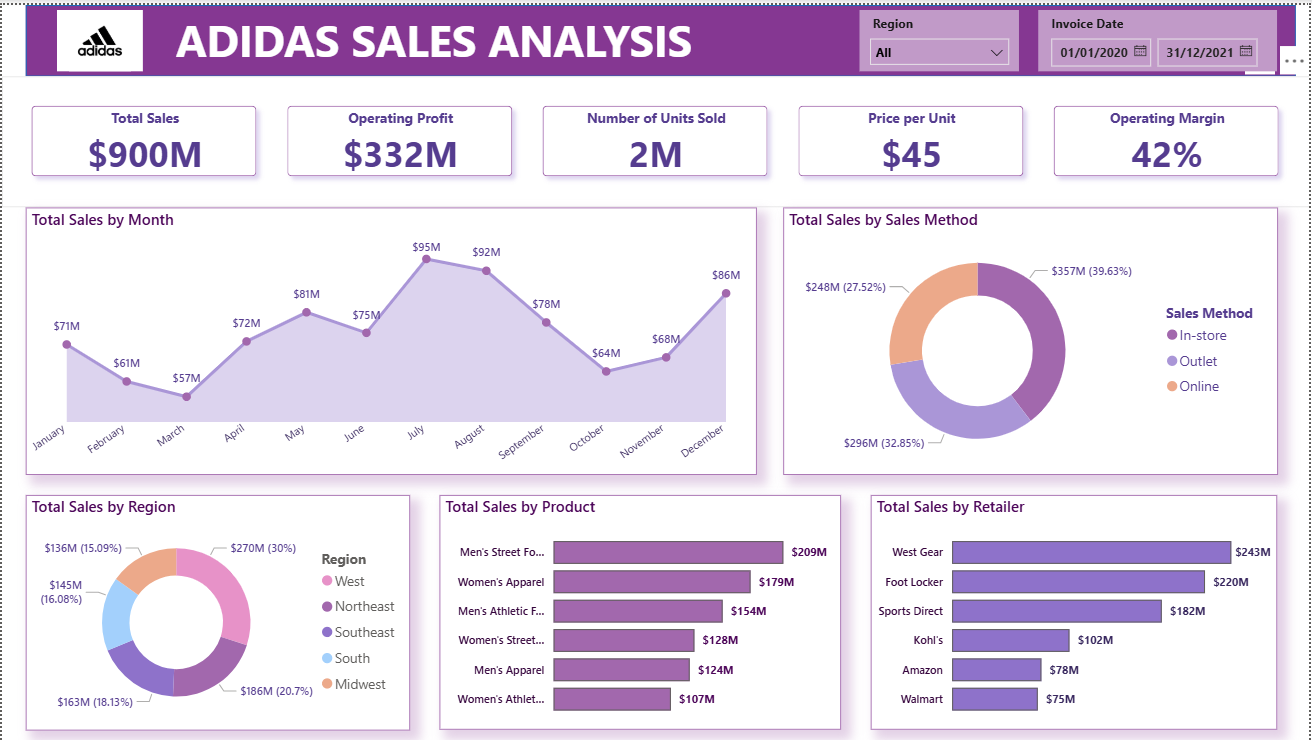

This screenshot's page, from the dashboard's own definition file:
{"tool":"powerbi","page":{"name":"Sales Analysis","canvas":[1280,720],"ordinal":0},"visuals":[{"type":"shape","box":[23.8,0,1242.5,70],"z":0},{"type":"textbox","box":[165,0,527.5,70],"z":1000},{"type":"cardVisual","fields":{"Data":["Sum(Data Sales Adidas.Total Sales)","Sum(Data Sales Adidas.Operating Profit)","Sum(Data Sales Adidas.Units Sold)","Avg(Data Sales Adidas.Price per Unit)","Avg(Data Sales Adidas.Operating Margin)"]},"box":[0,70,1280,127.5],"z":2000},{"type":"areaChart","title":"Total Sales by Month","fields":{"Category":["Data Sales Adidas.Invoice Date.Variation.Date Hierarchy.Month"],"Y":["Sum(Data Sales Adidas.Total Sales)"]},"box":[23.8,197.5,715,261.2],"z":3000},{"type":"donutChart","title":"Total Sales by Region","fields":{"Category":["Data Sales Adidas.Region"],"Y":["Sum(Data Sales Adidas.Total Sales)"]},"box":[23.8,478.8,376.2,230],"z":4000},{"type":"barChart","title":"Total Sales by Product","fields":{"Category":["Data Sales Adidas.Product"],"Y":["Sum(Data Sales Adidas.Total Sales)"]},"box":[428.2,478.8,392.9,229.4],"z":5000},{"type":"barChart","title":"Total Sales by Retailer","fields":{"Y":["Sum(Data Sales Adidas.Total Sales)"],"Category":["Data Sales Adidas.Retailer"]},"box":[849.4,478.8,397.6,229.4],"z":6000},{"type":"slicer","fields":{"Values":["Data Sales Adidas.Region"]},"box":[838.8,5,156.2,60],"z":7000},{"type":"slicer","fields":{"Values":["Data Sales Adidas.Invoice Date"]},"box":[1013.8,5,233.8,60],"z":8000},{"type":"image","box":[53.8,5,83.8,60],"z":9000},{"type":"pieChart","title":"Total Sales by Sales Method","fields":{"Category":["Data Sales Adidas.Sales Method"],"Y":["Sum(Data Sales Adidas.Total Sales)"]},"box":[763.8,197.5,483.8,261.2],"z":10000}]}

Visuals, with their boxes in screenshot pixels (x1, y1, x2, y2), scaled from the page's 1280x720 canvas onto the 1312x740 screenshot:
shape: box(24, 0, 1298, 72)
textbox: box(169, 0, 710, 72)
cardVisual - Sum(Data Sales Adidas.Total Sales) x Sum(Data Sales Adidas.Operating Profit): box(0, 72, 1311, 203)
"Total Sales by Month" areaChart: box(24, 203, 757, 471)
"Total Sales by Region" donutChart: box(24, 492, 410, 728)
"Total Sales by Product" barChart: box(439, 492, 842, 728)
"Total Sales by Retailer" barChart: box(871, 492, 1278, 728)
slicer - Data Sales Adidas.Region: box(860, 5, 1020, 67)
slicer - Data Sales Adidas.Invoice Date: box(1039, 5, 1279, 67)
image: box(55, 5, 141, 67)
"Total Sales by Sales Method" pieChart: box(783, 203, 1279, 471)
